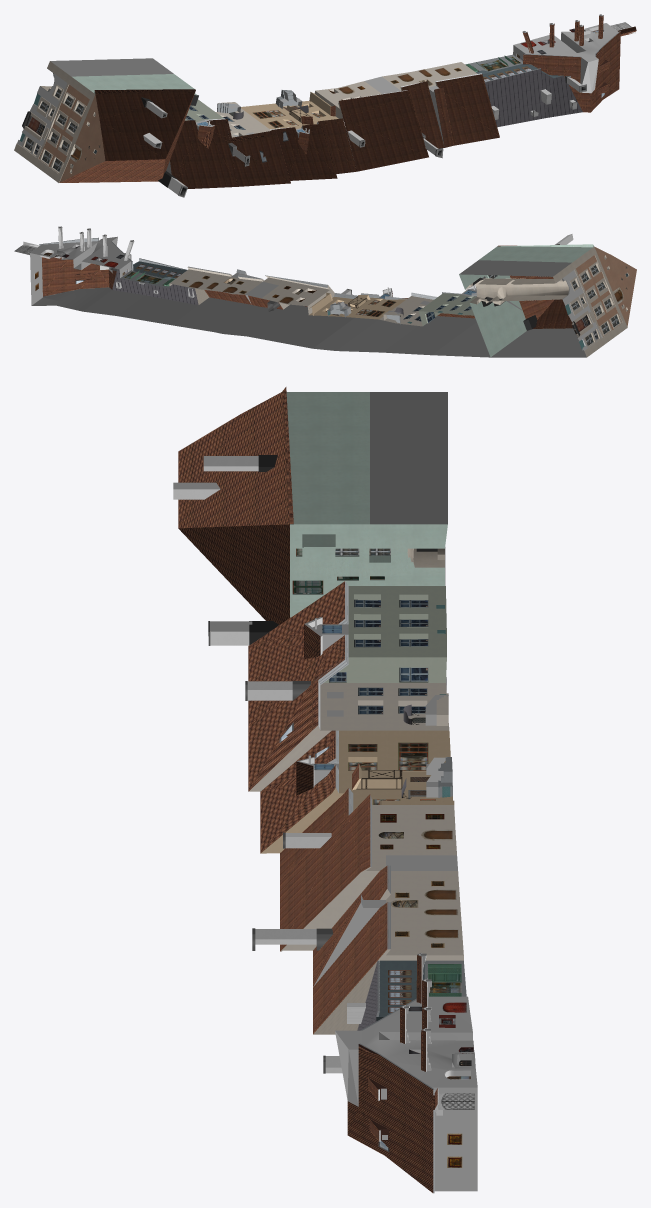
Rendered from Vene_12-origo.obj.
3 views of the same model, one above another, from view 1: azimuth 30°, elevation 25°; view 2: azimuth 150°, elevation 25°; view 3: azimuth 270°, elevation 25° (orthographic). The views are drawn at different scales.
Parts seen in each view (by area): view 1: Vene_12; view 2: Vene_12; view 3: Vene_12.
Part boxes in pixels (x1,y1,x2,y2): Vene_12: (14,14,636,197); Vene_12: (14,226,636,357); Vene_12: (173,387,477,1193).
Size of the model in its own units: 101 by 26 by 23.62.
